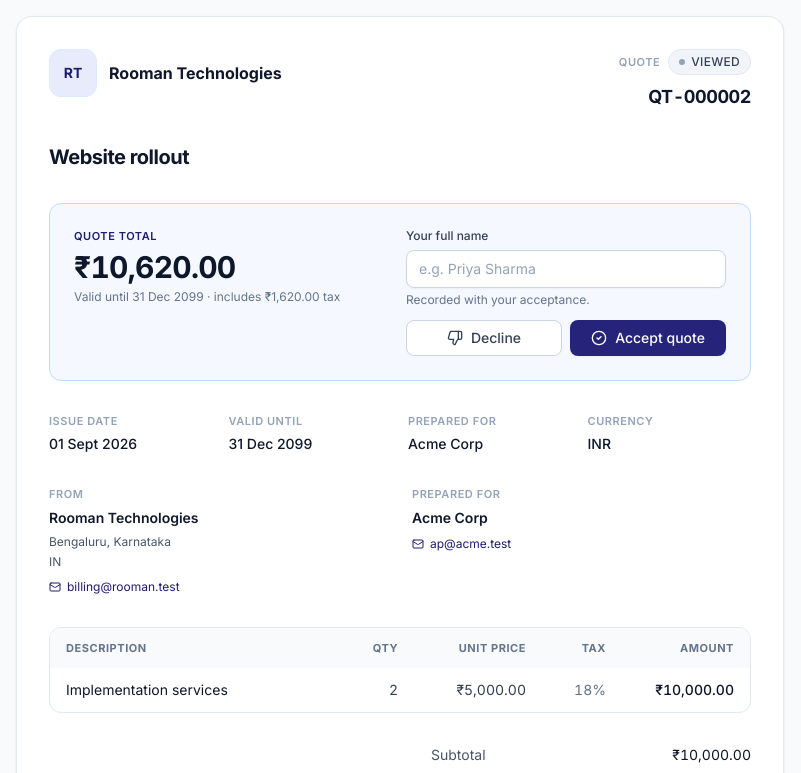
Test case: <PublicQuotePage /> customer quote experience › requires the customer name before accepting
Click the button "Accept quote". click: (648, 338)
box: top-left (570, 320), bottom-right (726, 356)
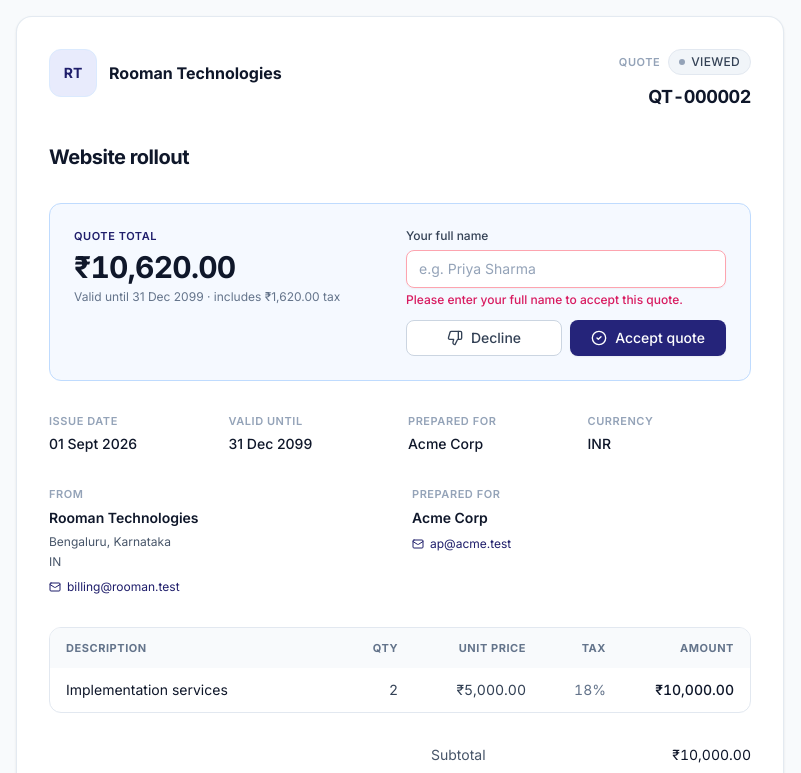
Expected: the text "Please enter your full name to accept this quote." is shown, top-left (406, 292), bottom-right (726, 308)
